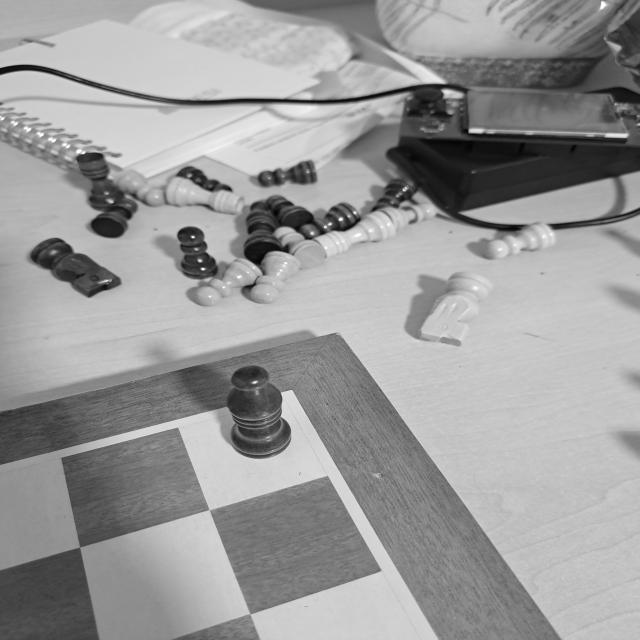chess-table-corners: (282, 384, 302, 396)
